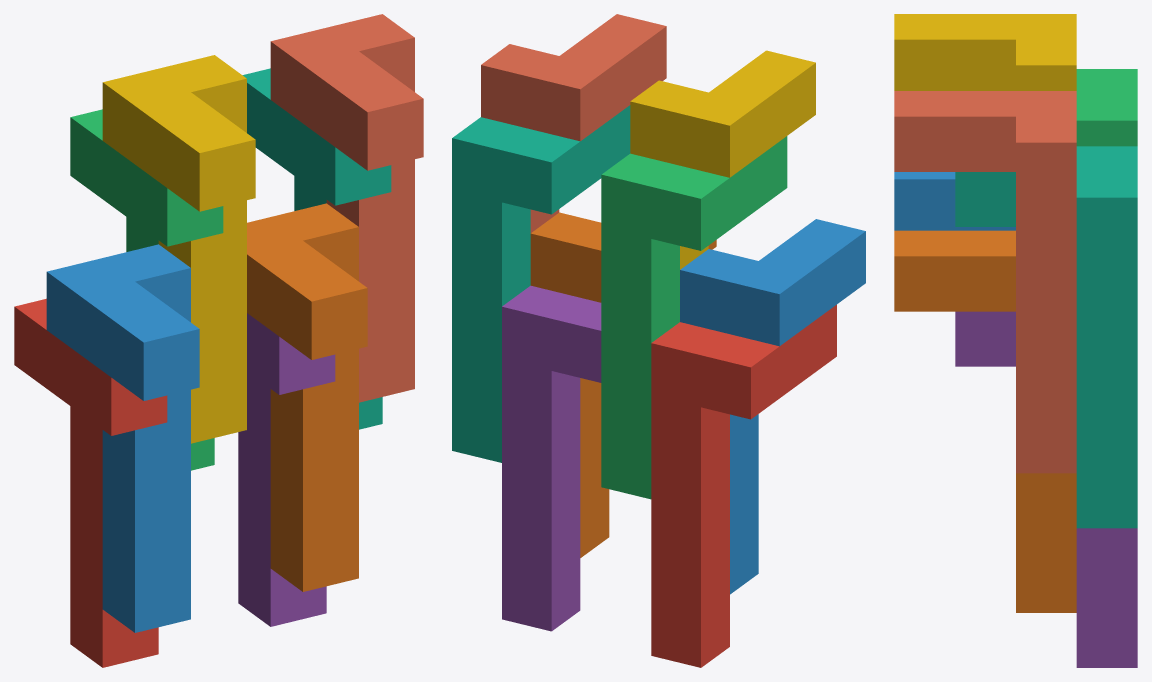
Rendered from tiling.obj.
3 renders of one model, left to right at view 1: azimuth 30°, elevation 25°; view 2: azimuth 150°, elevation 25°; view 3: azimuth 270°, elevation 25°, orthographic. The views are drawn at different scales.
Parts seen in each view (by area): view 1: copy_1_domain_2, copy_1_domain_6, copy_1_domain_8, copy_1_domain_4, copy_1_domain_1, copy_1_domain_5, copy_1_domain_3, copy_1_domain_7; view 2: copy_1_domain_1, copy_1_domain_3, copy_1_domain_5, copy_1_domain_7, copy_1_domain_2, copy_1_domain_4, copy_1_domain_8, copy_1_domain_6; view 3: copy_1_domain_8, copy_1_domain_7, copy_1_domain_6, copy_1_domain_4, copy_1_domain_5, copy_1_domain_3, copy_1_domain_2.
Boxes of the visible parts, x1,y1,x2,y2 form: copy_1_domain_2: (46,244,199,632); copy_1_domain_6: (247,203,367,591); copy_1_domain_8: (270,14,423,402); copy_1_domain_4: (102,55,255,443); copy_1_domain_1: (14,298,167,667); copy_1_domain_5: (238,313,335,626); copy_1_domain_3: (70,109,223,470); copy_1_domain_7: (242,68,391,429); copy_1_domain_1: (651,304,836,667); copy_1_domain_3: (601,136,787,499); copy_1_domain_5: (502,285,601,631); copy_1_domain_7: (452,105,630,462); copy_1_domain_2: (680,219,865,594); copy_1_domain_4: (630,50,815,269); copy_1_domain_8: (481,14,666,232); copy_1_domain_6: (530,212,716,557); copy_1_domain_8: (894,91,1076,473); copy_1_domain_7: (955,146,1137,528); copy_1_domain_6: (894,230,1076,612); copy_1_domain_4: (894,14,1076,90); copy_1_domain_5: (955,311,1137,667); copy_1_domain_3: (1076,69,1137,146); copy_1_domain_2: (894,172,1015,230).
Size of the model in its own units: 6 by 10 by 4.
